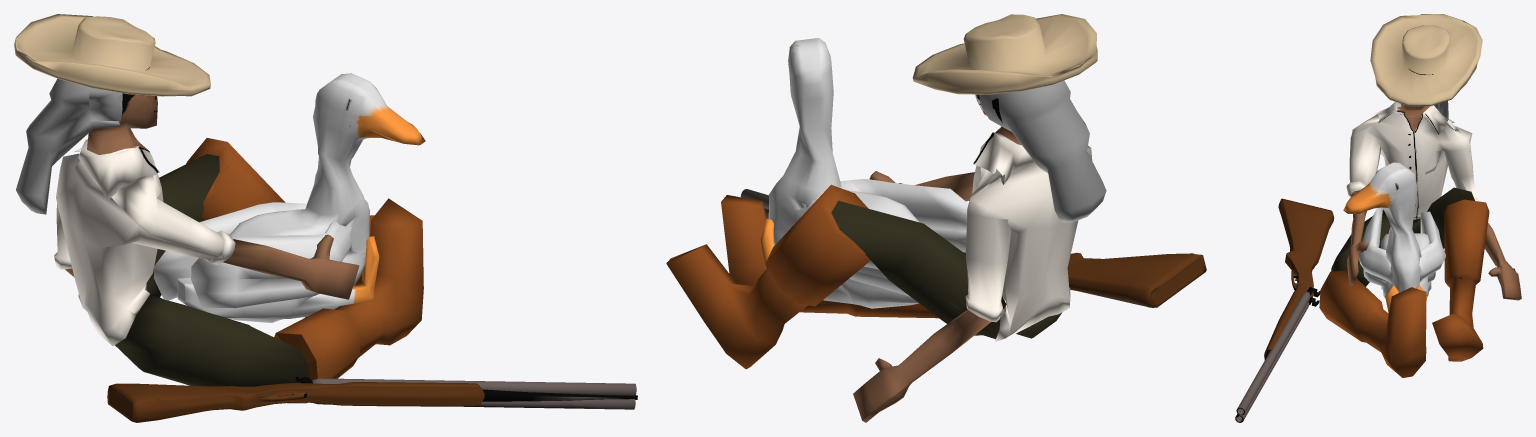
The model's file is idle_0.obj.
3 renders of one model, left to right at view 1: azimuth 30°, elevation 25°; view 2: azimuth 150°, elevation 25°; view 3: azimuth 270°, elevation 25°, orthographic. The views are drawn at different scales.
Visible parts, largest first — view 1: Default_Body_Cube, Cube.005, SHOTGUN_Cube.007, Hat_Cylinder, Hair_Cube.004; view 2: Default_Body_Cube, Cube.005, Hat_Cylinder, Hair_Cube.004, SHOTGUN_Cube.007; view 3: Default_Body_Cube, Hat_Cylinder, Cube.005, SHOTGUN_Cube.007.
Boxes of the visible parts, bbox=[...] form: Default_Body_Cube: bbox=[54, 93, 423, 403]; Cube.005: bbox=[154, 73, 425, 322]; SHOTGUN_Cube.007: bbox=[107, 376, 637, 422]; Hat_Cylinder: bbox=[14, 14, 210, 96]; Hair_Cube.004: bbox=[16, 78, 122, 214]; Default_Body_Cube: bbox=[666, 94, 1092, 422]; Cube.005: bbox=[760, 38, 968, 308]; Hat_Cylinder: bbox=[912, 14, 1097, 94]; Hair_Cube.004: bbox=[979, 80, 1106, 222]; SHOTGUN_Cube.007: bbox=[740, 189, 1206, 307]; Default_Body_Cube: bbox=[1319, 73, 1521, 377]; Hat_Cylinder: bbox=[1370, 14, 1482, 106]; Cube.005: bbox=[1343, 162, 1445, 313]; SHOTGUN_Cube.007: bbox=[1235, 198, 1334, 422].
Size of the model in its own units: 6.85 by 5.15 by 5.14.
